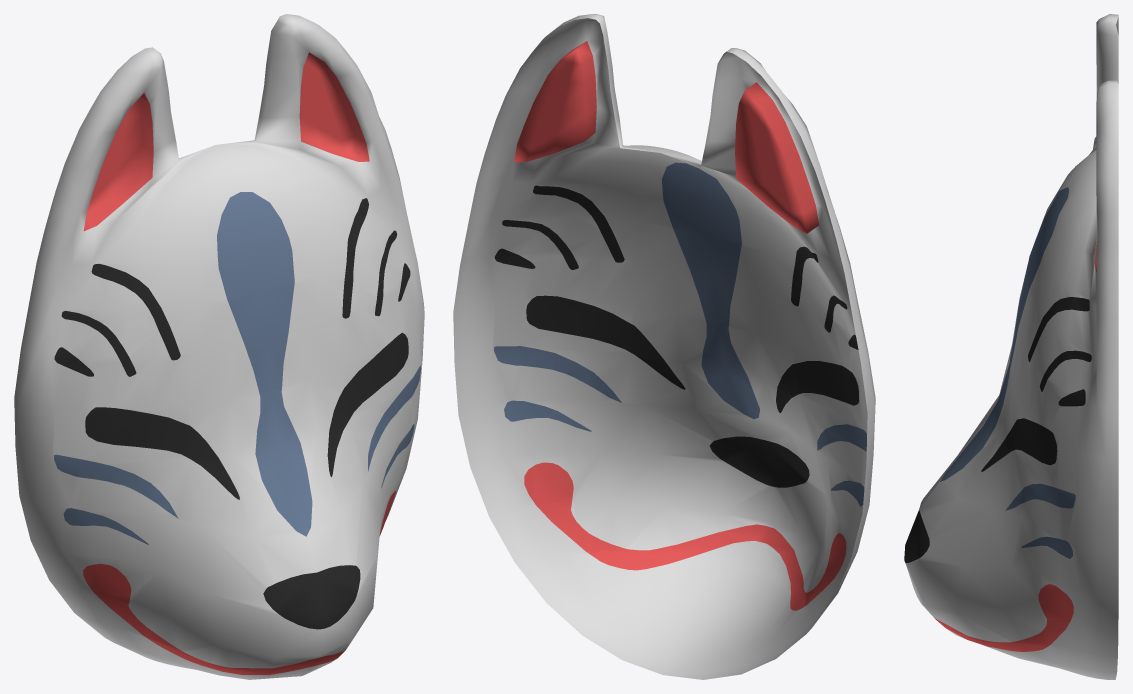
Rendered from topeng.glb.
3 views of the same model, side by side, from view 1: azimuth 30°, elevation 25°; view 2: azimuth 150°, elevation 25°; view 3: azimuth 270°, elevation 25° (orthographic). The views are drawn at different scales.
Visible parts, largest first — view 1: Sphere; view 2: Sphere; view 3: Sphere.
Boxes of the visible parts, <box> form: Sphere: <box>14,14,424,679</box>; Sphere: <box>453,14,875,679</box>; Sphere: <box>904,14,1118,679</box>.
Size of the model in its own units: 4.63 by 6.83 by 2.16.
